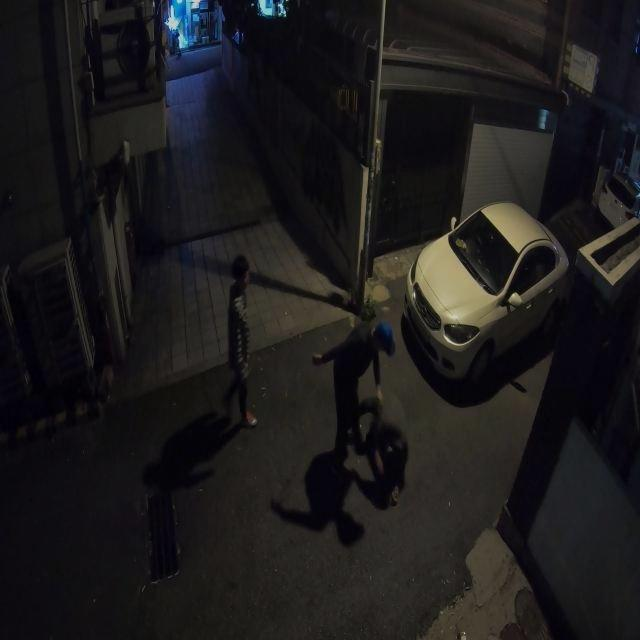fight: (312, 314, 413, 510)
non-fight: (221, 255, 261, 430)
